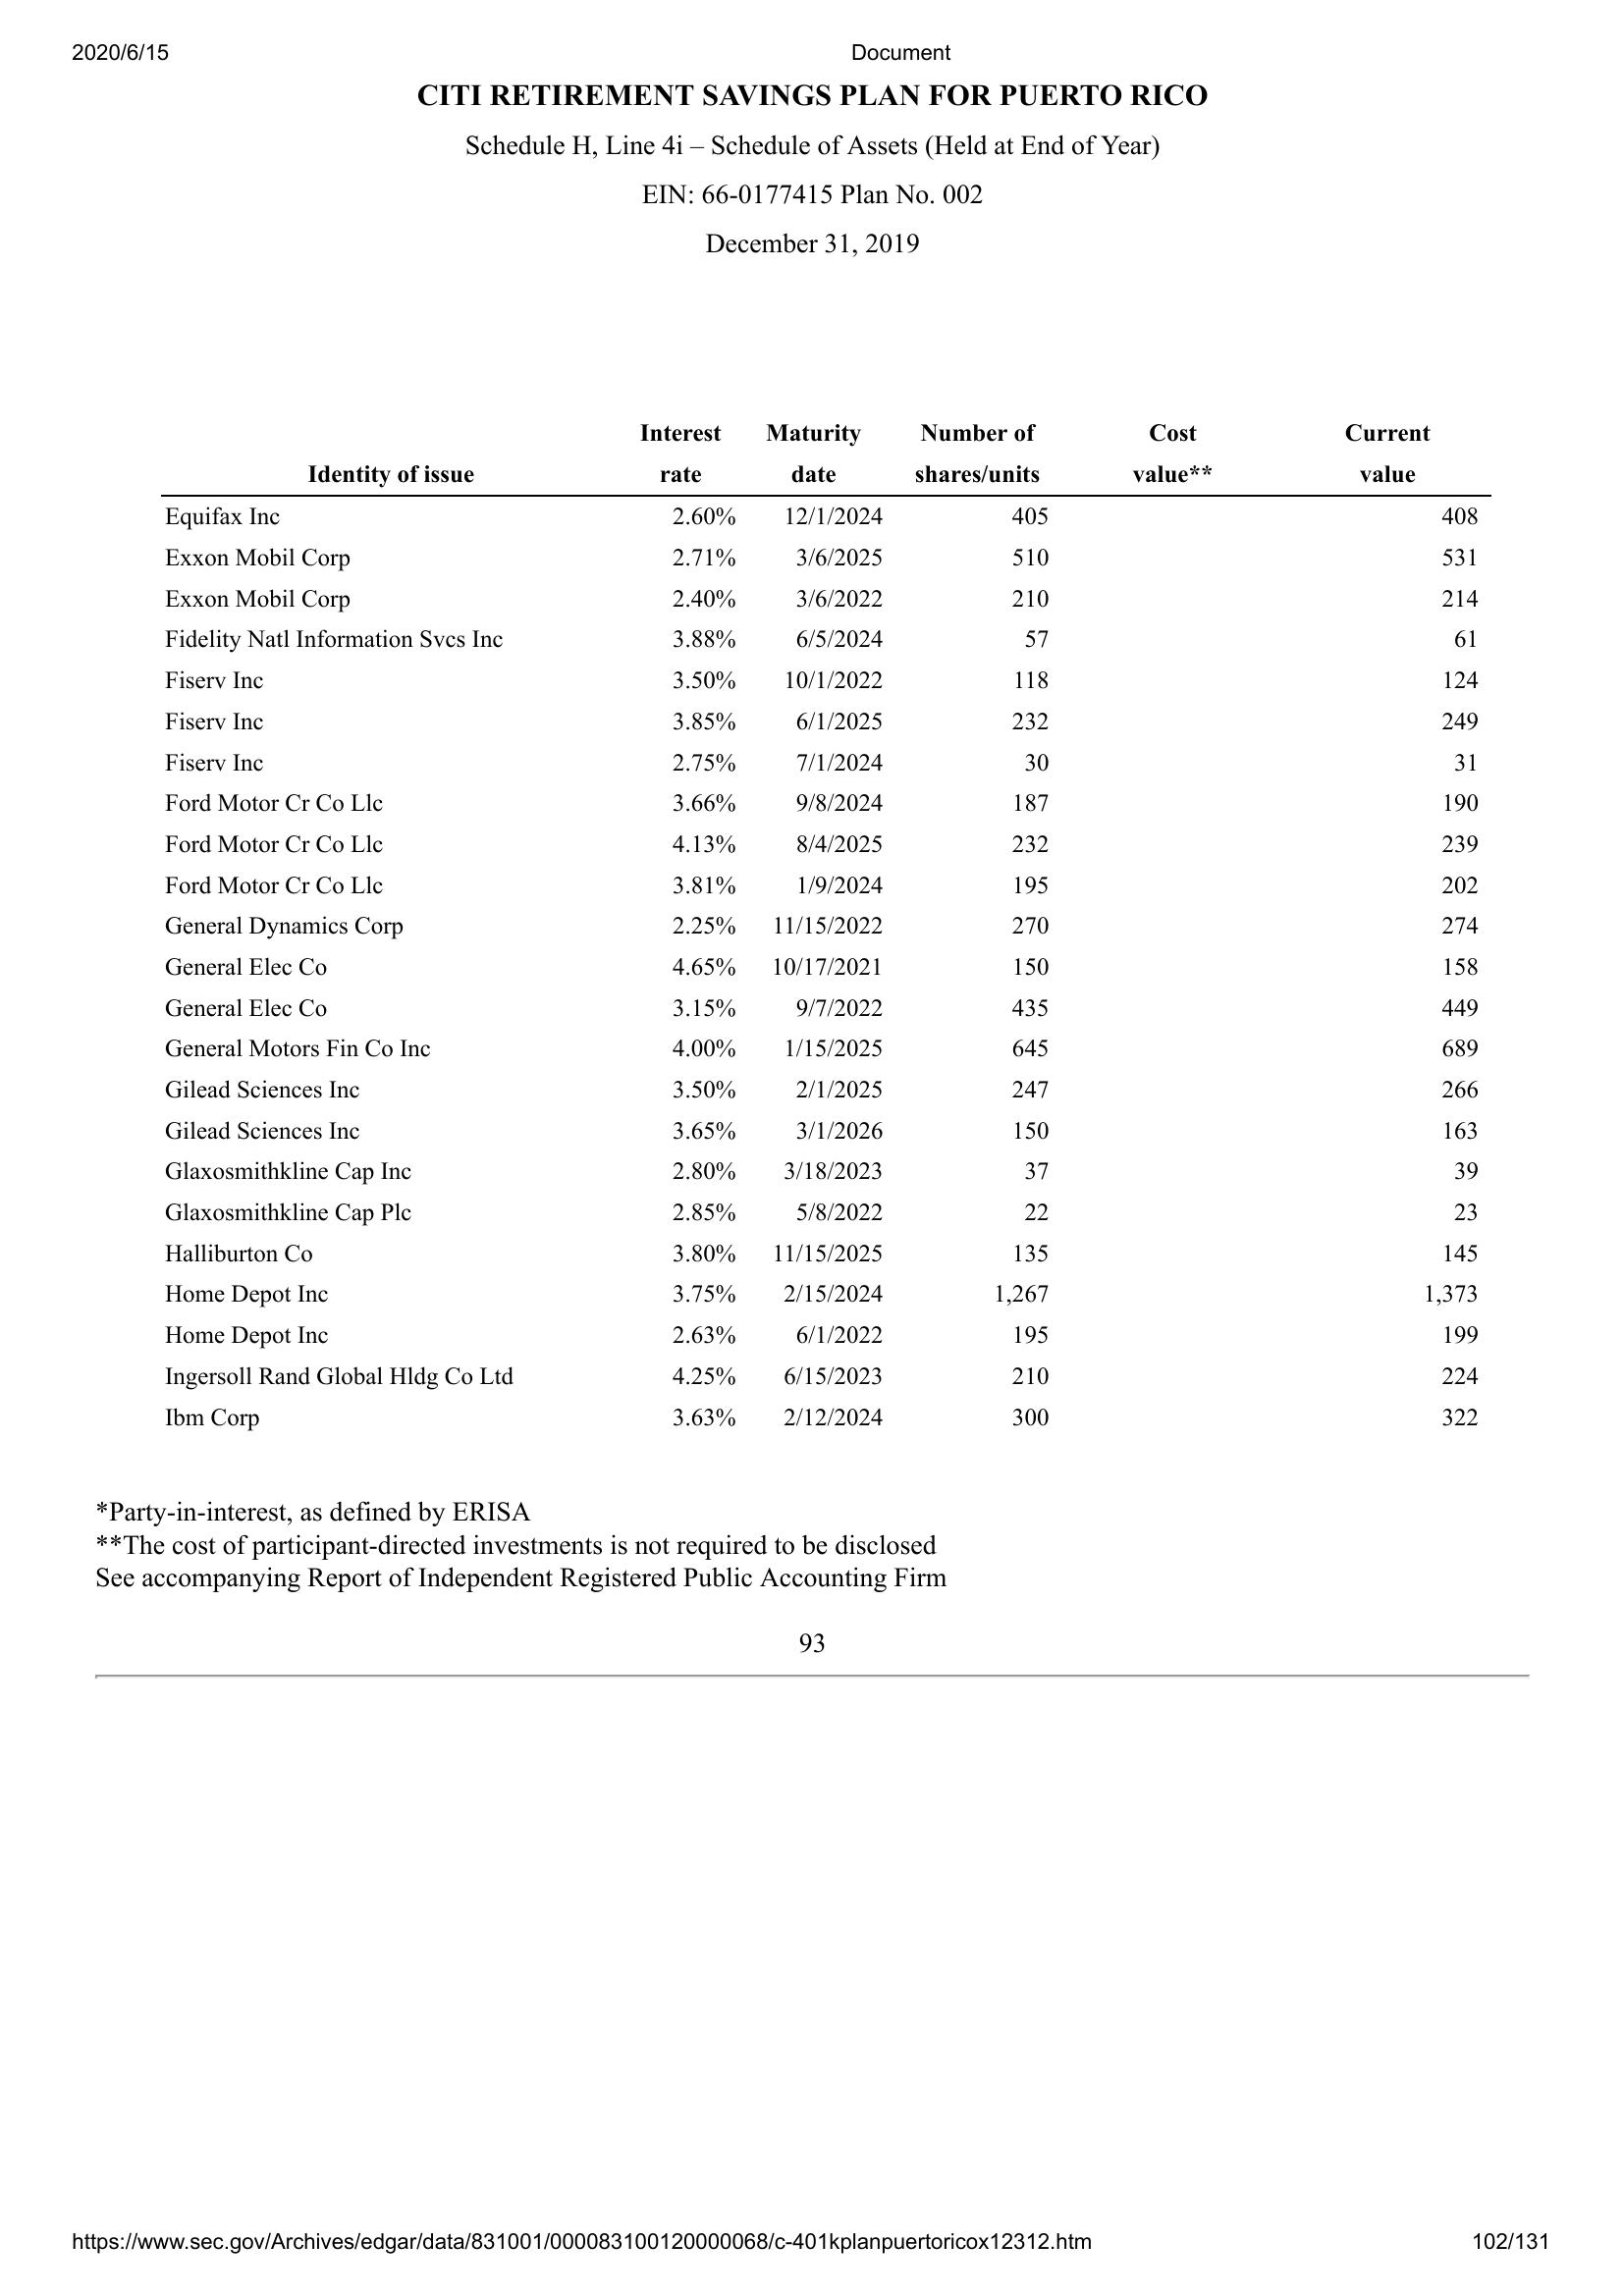table: (151, 416, 1495, 1432)
